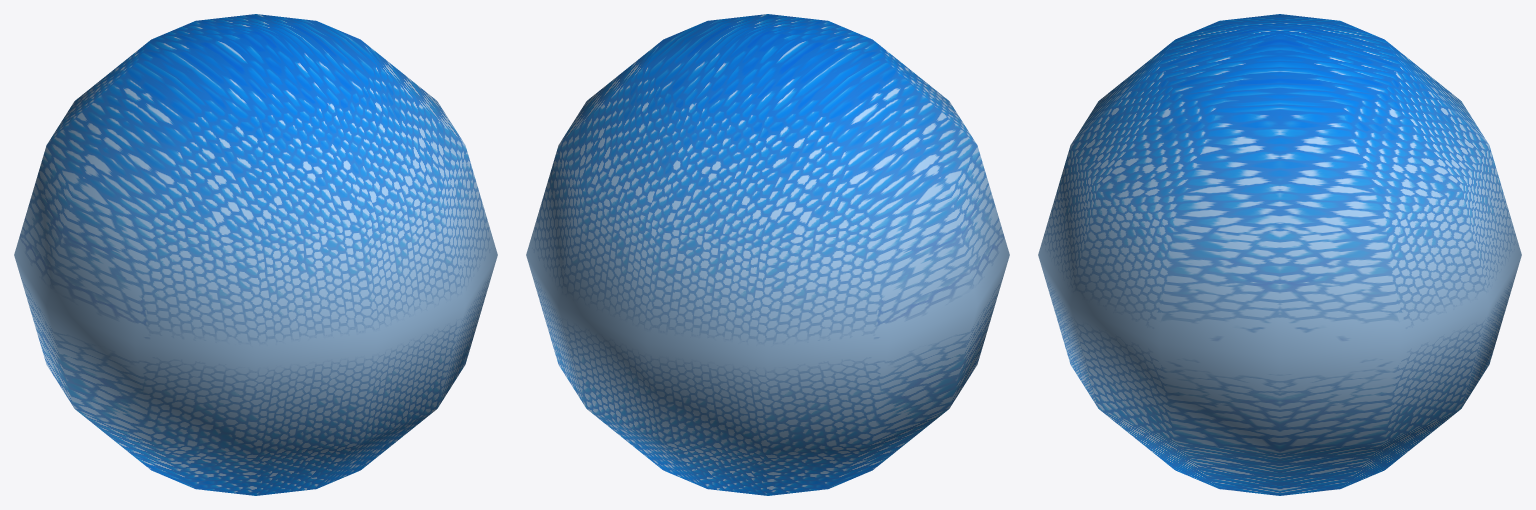
The model's file is easteregg.dae.
The picture shows the model from 3 angles, left to right: view 1: azimuth 30°, elevation 25°; view 2: azimuth 150°, elevation 25°; view 3: azimuth 270°, elevation 25°; orthographic projection.
Visible parts, largest first — view 1: easteregg; view 2: easteregg; view 3: easteregg.
Part boxes in pixels (left/top/right/bottom): easteregg: left=14, top=14, right=497, bottom=495; easteregg: left=526, top=14, right=1009, bottom=495; easteregg: left=1038, top=14, right=1521, bottom=495.
Size of the model in its own units: 0.5764 by 0.5764 by 0.5764.
